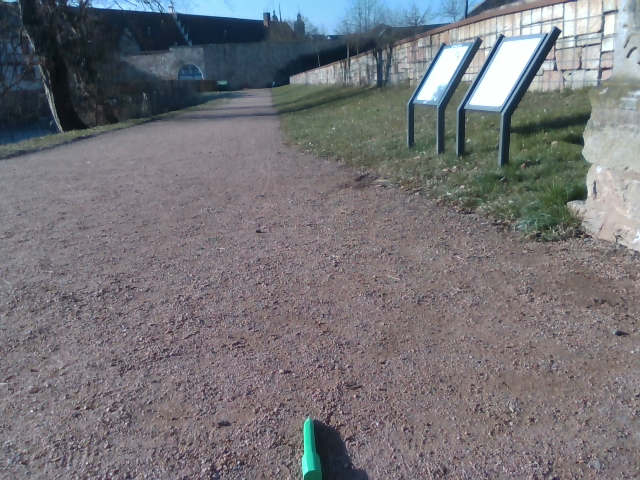Probe: (298, 413, 325, 480)
